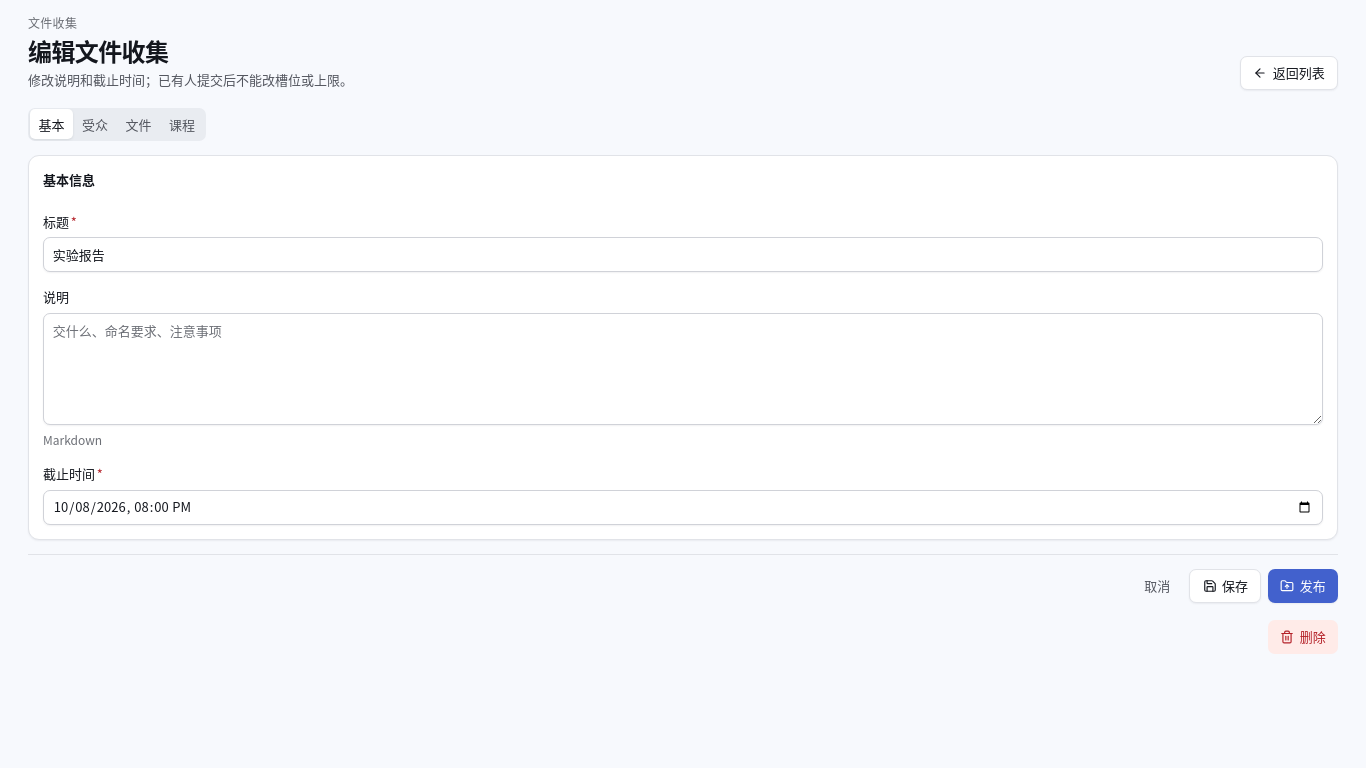
Test: collect edit deleted group › treats an empty schoolId on 已删除的组 as missing
Click the tab "受众".
click(95, 124)  # box [73,109,117,139]
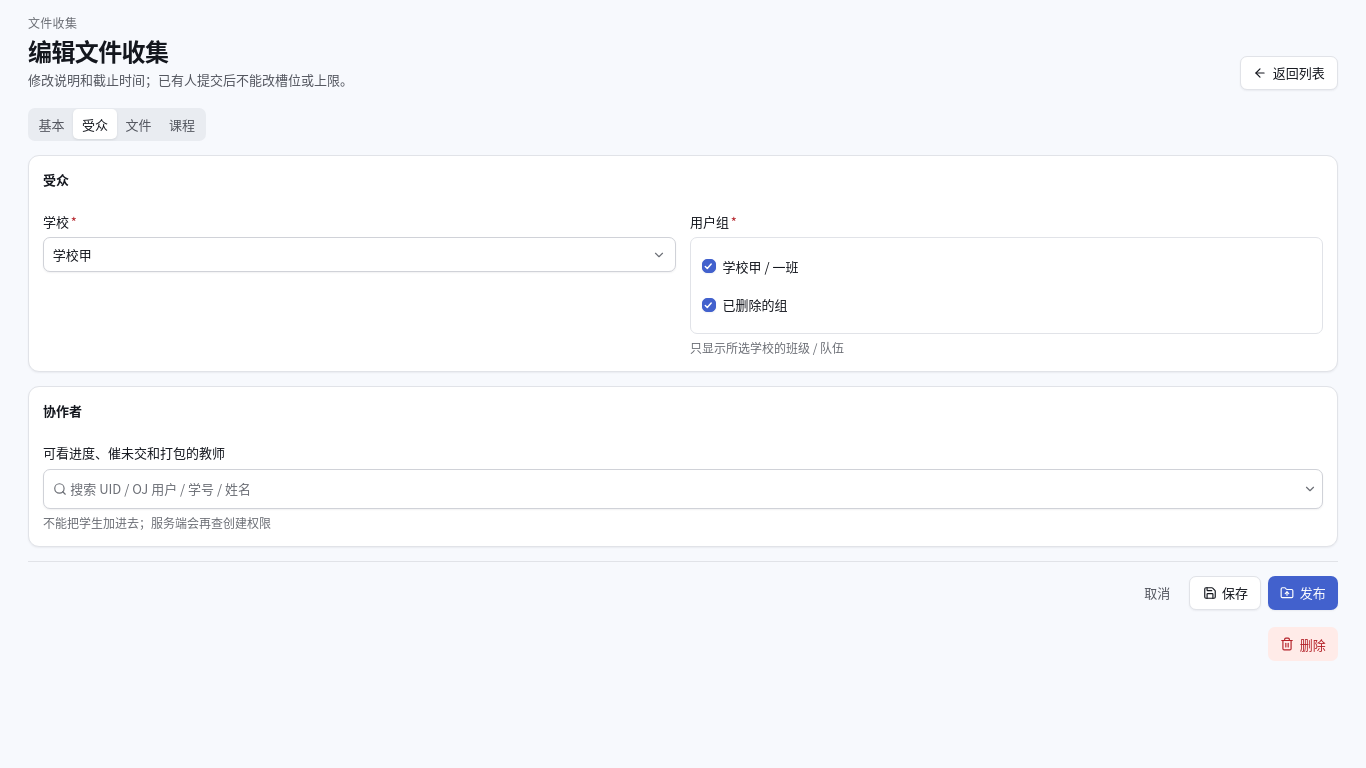
Check: the checkbox labelled "已删除的组" is checked, box [702,295,788,314]
